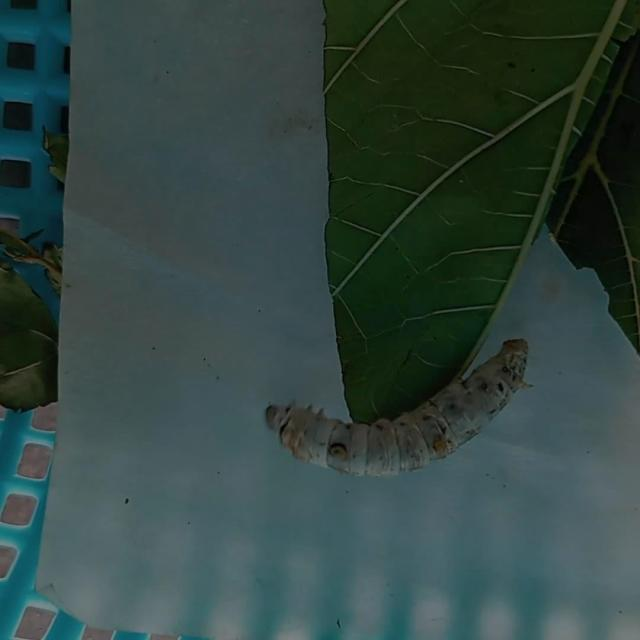Grasserie: (255, 329, 540, 484)
